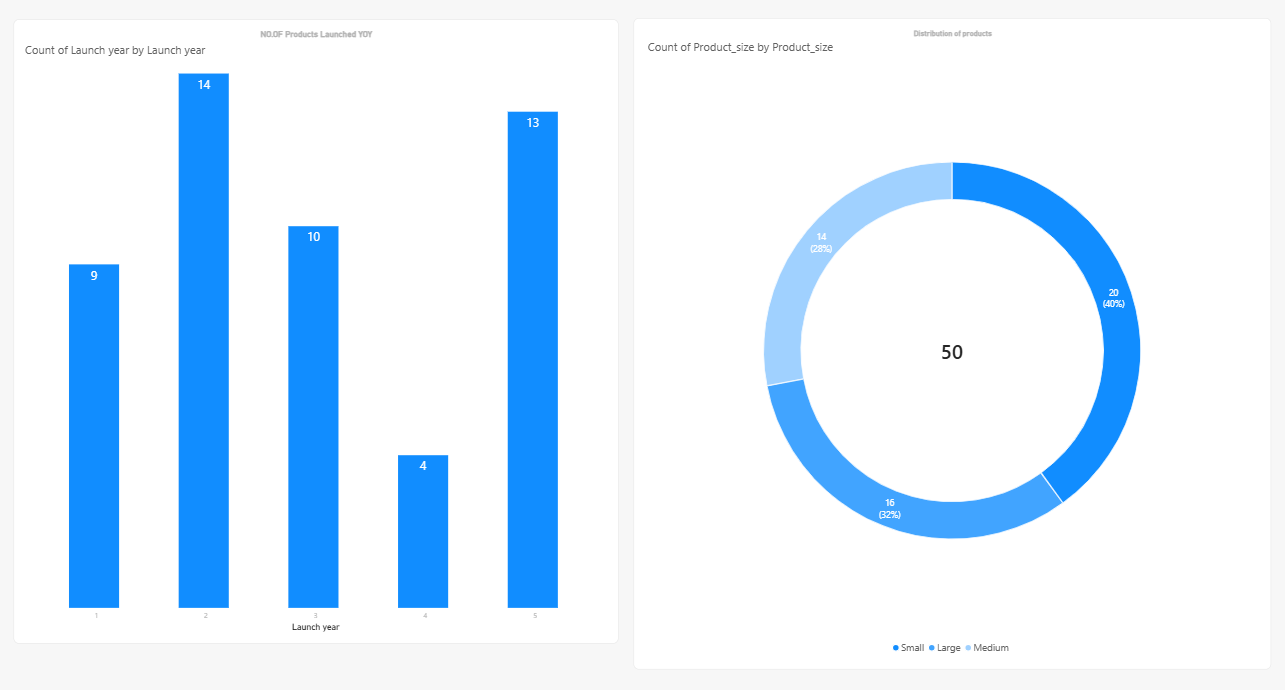

Layout of this report page (visuals, bound fields, positions):
{"tool":"powerbi","page":{"name":"Products launch","canvas":[1920,1080],"ordinal":0},"visuals":[{"type":"clusteredColumnChart","title":"NO.OF Products Launched YOY ","fields":{"Category":["PL_YOY.Launch year"],"Y":["CountNonNull(PL_YOY.Launch year)"]},"box":[40.2,60.3,875.6,903.8],"z":0},{"type":"donutChart","title":"Distribution of products","fields":{"Category":["PL_YOY.Product_size"],"Y":["CountNonNull(PL_YOY.Product_size)"]},"box":[937.4,57.9,884.9,904.8],"z":1}]}

Visuals, with their boxes on the page's 1920x1080 design canvas (x1, y1, x2, y2). These are canvas units, not pixel positions in the 1285x690 screenshot, which may show the page scaled, cropped or inside an application window:
"NO.OF Products Launched YOY " clusteredColumnChart: 40, 60, 916, 964
"Distribution of products" donutChart: 937, 58, 1822, 963
